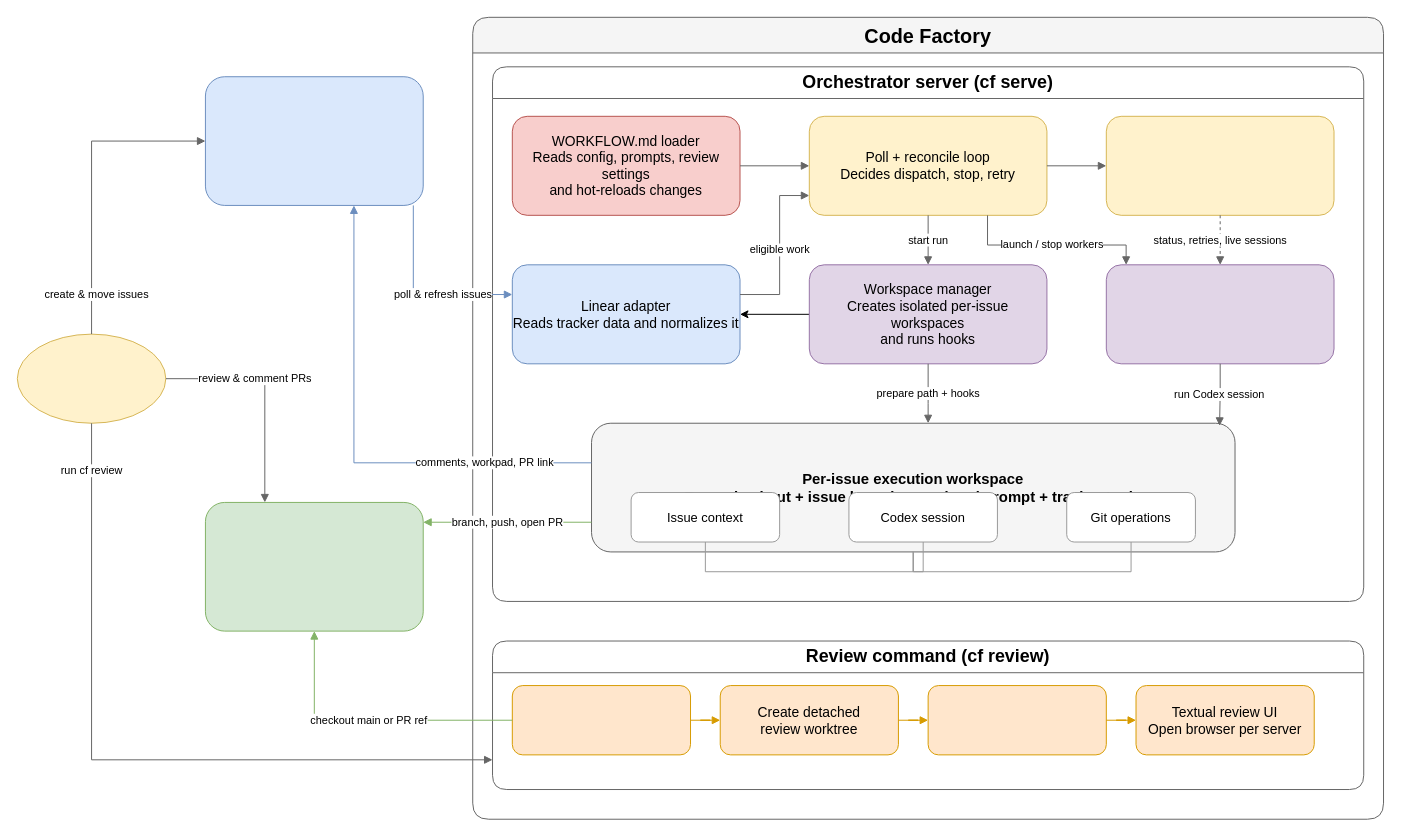
Image size: 1401x837. Some labels were removed from this diagram. The shapes that lost their labels are listed below. From the top down, each one's centre as x and y in pixels, then its label:
the point at 313,140: Linear Issues, states, comments, branch links
the point at 1219,165: Runtime state Workers, retry queue, token totals, metrics
the point at 1219,314: Worker pool Launches Codex app-server sessions
the point at 91,378: Operator / developer
the point at 313,566: GitHub Repo, branches, pull requests
the point at 601,720: Resolve target (main or one issue)
the point at 1016,720: Run prepare + dev servers
